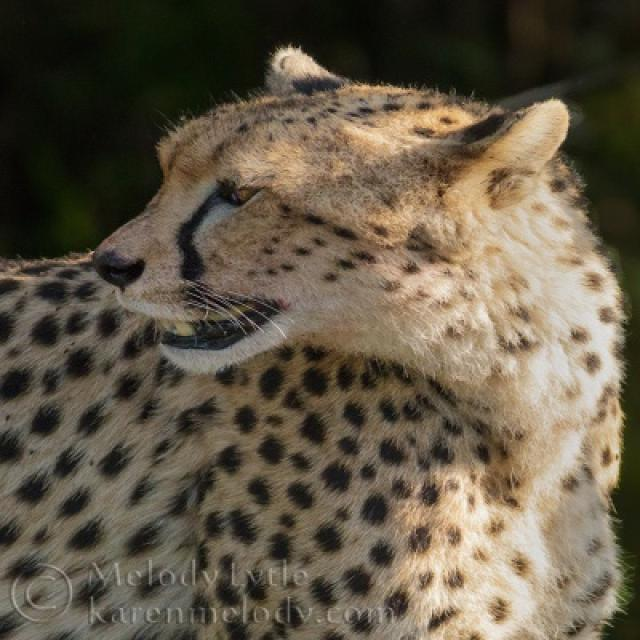Cheetah: (0, 48, 630, 638)
